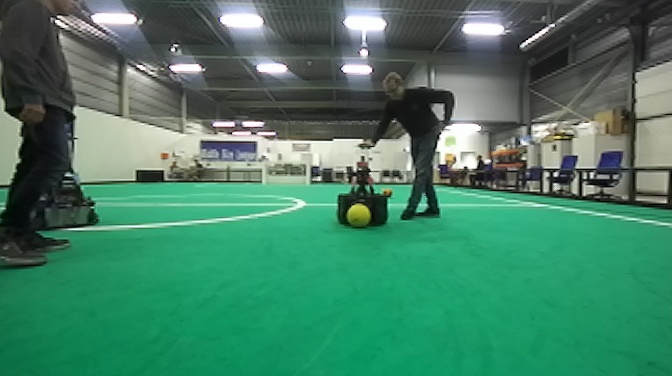ball: (345, 202, 373, 230)
goal: (261, 162, 310, 187)
goalpost: (261, 163, 267, 186), (305, 160, 310, 184)
human: (1, 1, 82, 267), (353, 70, 456, 223)
robot: (31, 109, 102, 232), (334, 142, 390, 229)
